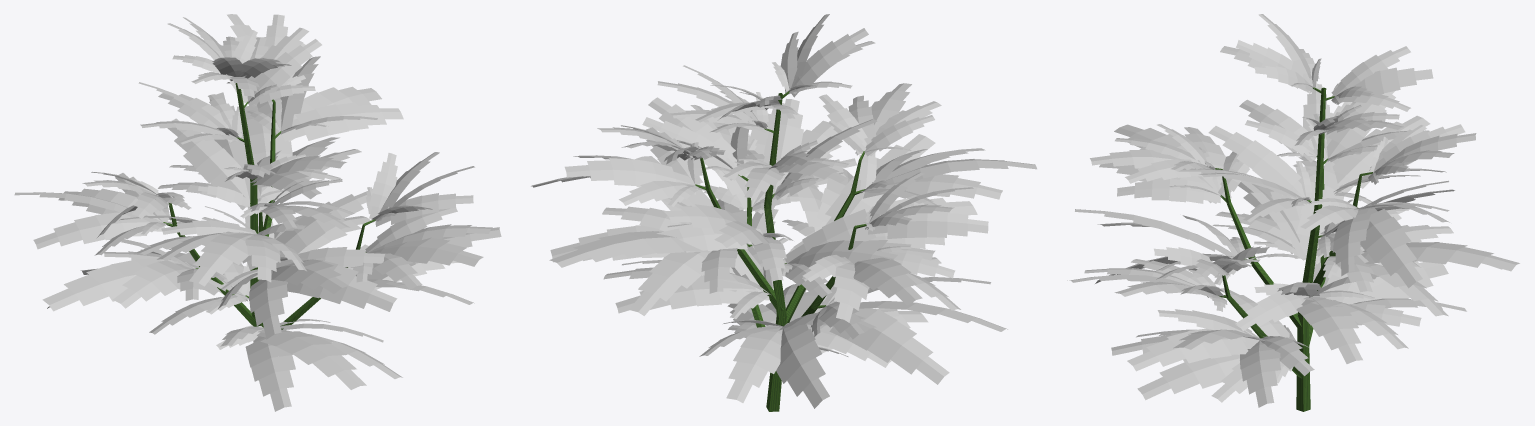
Rendered from plant_2_3_0.obj.
3 renders of one model, left to right at view 1: azimuth 30°, elevation 25°; view 2: azimuth 150°, elevation 25°; view 3: azimuth 270°, elevation 25°, orthographic. The views are drawn at different scales.
Parts seen in each view (by area): view 1: model; view 2: model; view 3: model.
Boxes of the visible parts, x1=… form: model: x1=14, y1=14, x2=501, y2=411; model: x1=531, y1=14, x2=1036, y2=411; model: x1=1067, y1=14, x2=1519, y2=411.
Bounding box in the file's own units: 0.7102 × 0.6006 × 0.679.
